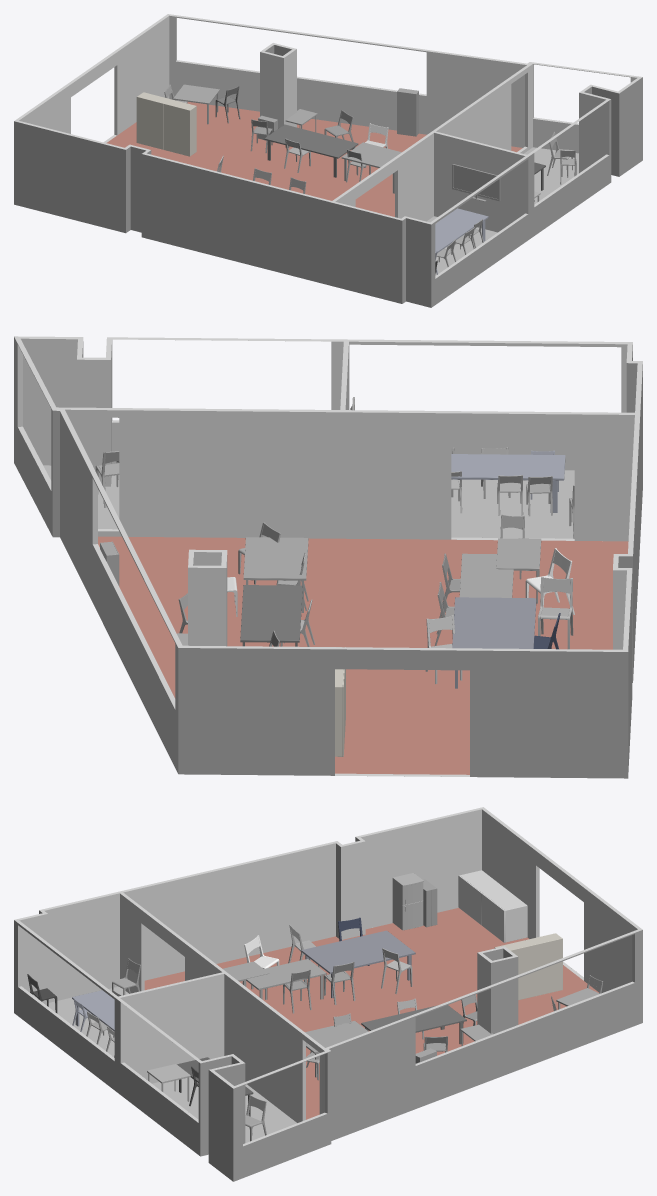
File: ccc.glb
The picture shows the model from 3 angles, top to bottom: view 1: azimuth 30°, elevation 25°; view 2: azimuth 150°, elevation 25°; view 3: azimuth 270°, elevation 25°; orthographic projection. The views are drawn at different scales.
Visible parts, largest first — view 1: stage, stage.001, Storage.003, Table.002, Storage.008, Table.003, Television, Storage.001, Table.010, Table.005; view 2: stage, stage.001, Table.007, Table.002, Table.003, Table.010, Table.006, Table.001, Chair.018, Table.017, Storage.003, Chair; view 3: stage, stage.001, Storage.002, Table.007, Storage.003, Refrigerator, Table.002, Table.006, Table.003, Table.010, Table.017, Table (+6 smaller).
Part boxes in pixels (x1,y1,x2,y2): stage: (14, 14, 642, 307); stage.001: (15, 14, 619, 302); Storage.003: (136, 92, 196, 156); Table.002: (264, 124, 358, 177); Storage.008: (136, 92, 195, 148); Table.003: (435, 208, 488, 252); Television: (452, 164, 500, 201); Storage.001: (397, 88, 418, 136); Table.010: (341, 142, 401, 193); Table.005: (173, 84, 219, 124); stage: (14, 336, 642, 778); stage.001: (15, 338, 642, 777); Table.007: (452, 597, 536, 688); Table.002: (240, 585, 302, 646); Table.003: (451, 454, 565, 512); Table.010: (243, 537, 308, 612); Table.006: (459, 554, 513, 597); Table.001: (496, 538, 541, 603); Chair.018: (538, 577, 573, 649); Table.017: (460, 553, 513, 591); Storage.003: (335, 647, 345, 756); Chair: (525, 548, 574, 614); stage: (14, 807, 642, 1181); stage.001: (14, 807, 642, 1154); Storage.002: (458, 870, 527, 942); Table.007: (301, 930, 415, 998); Storage.003: (495, 933, 562, 999); Refrigerator: (392, 873, 423, 930); Table.002: (361, 1005, 466, 1044); Table.006: (243, 963, 326, 999); Table.003: (72, 990, 114, 1031); Table.010: (305, 1021, 368, 1077); Table.017: (252, 959, 324, 986); Table: (147, 1064, 190, 1101).
Bounding box in the file's own units: 17.14 × 2.65 × 16.17.
